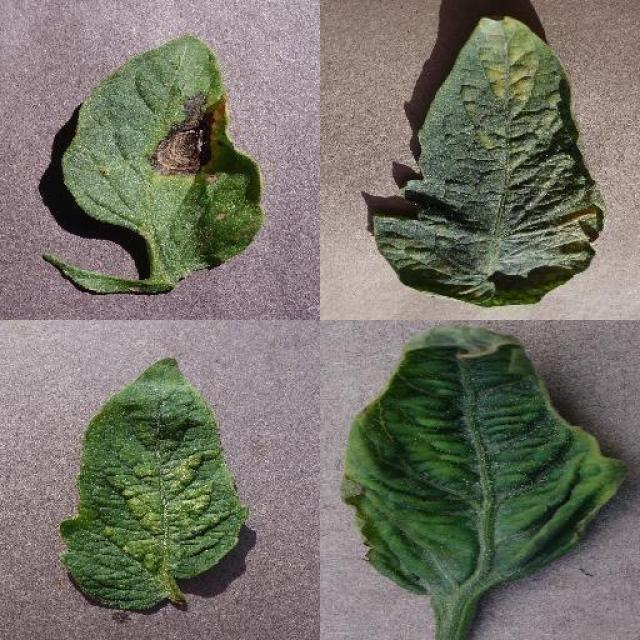Early Blight: (61, 34, 268, 282)
